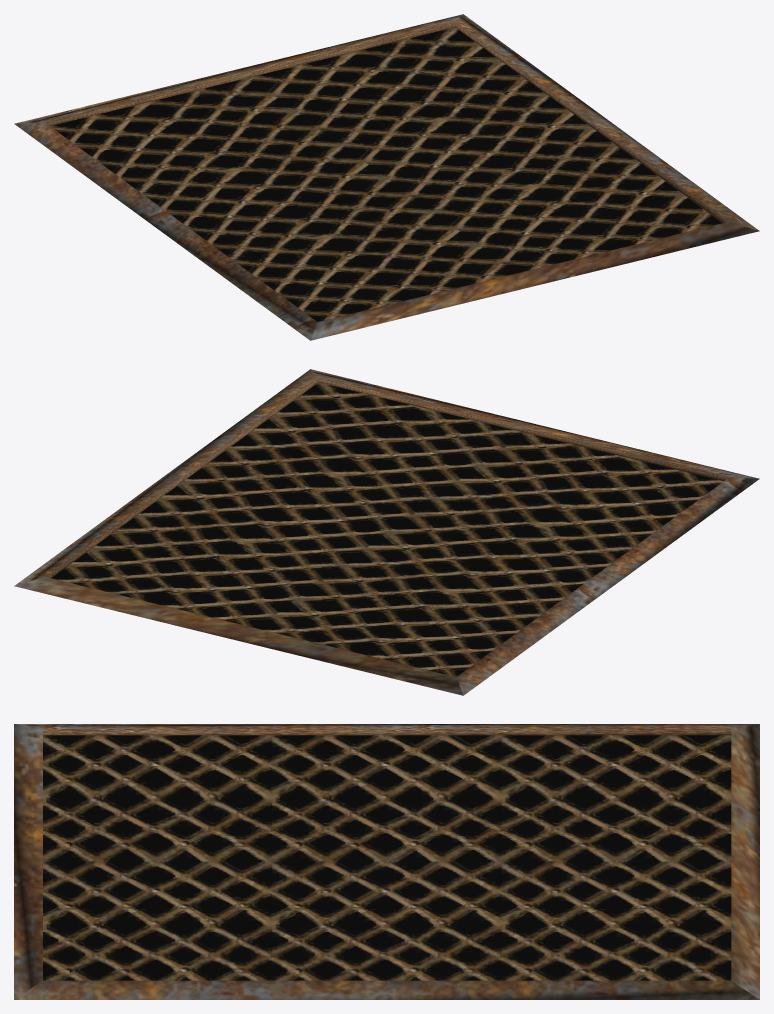
The model's file is DWARF_PALACE_MAINHALL_THRONEVENT02.fbx.
The picture shows the model from 3 angles, top to bottom: view 1: azimuth 30°, elevation 25°; view 2: azimuth 150°, elevation 25°; view 3: azimuth 270°, elevation 25°; orthographic projection. The views are drawn at different scales.
Parts seen in each view (by area): view 1: DWARF_PALACE_MAINHALL_THRONEVENT02; view 2: DWARF_PALACE_MAINHALL_THRONEVENT02; view 3: DWARF_PALACE_MAINHALL_THRONEVENT02.
Part boxes in pixels (x1,y1,x2,y2): DWARF_PALACE_MAINHALL_THRONEVENT02: [14, 14, 759, 340]; DWARF_PALACE_MAINHALL_THRONEVENT02: [14, 369, 759, 695]; DWARF_PALACE_MAINHALL_THRONEVENT02: [14, 724, 759, 999].
Bounding box in the file's own units: 35011 × 866 × 40000.
Materials: 2 (2 with a texture image).
